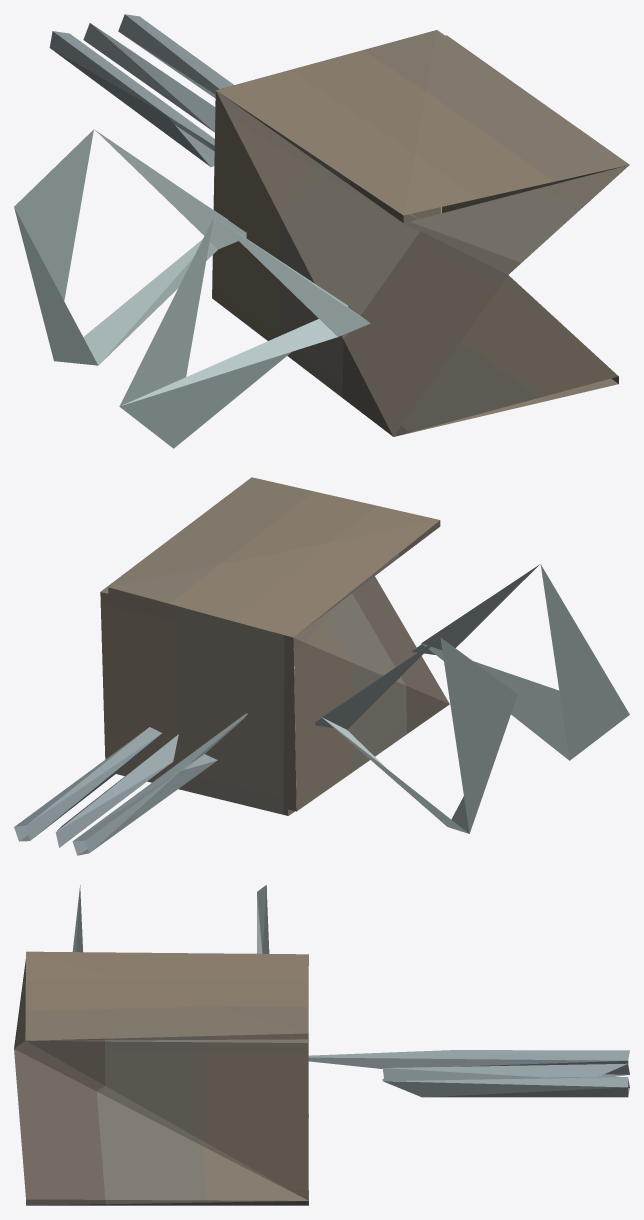
Rendered from pj-063-geode.glb.
3 renders of one model, top to bottom at view 1: azimuth 30°, elevation 25°; view 2: azimuth 150°, elevation 25°; view 3: azimuth 270°, elevation 25°, orthographic. The views are drawn at different scales.
Visible parts, largest first — view 1: Node; view 2: Node; view 3: Node.
Boxes of the visible parts, x1,y1,x2,y2 form: Node: (14,14,629,448); Node: (14,477,629,855); Node: (14,885,629,1205).
Size of the model in its own units: 0.9919 by 0.4566 by 1.41.
1 material, 1 textured.
